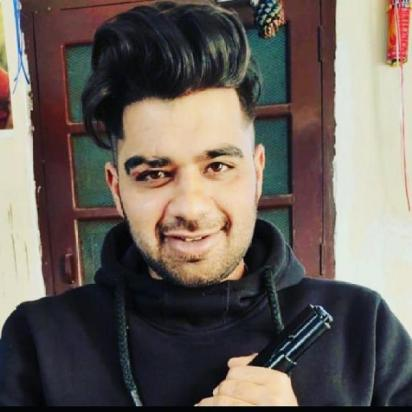Gun: (192, 299, 340, 409)
